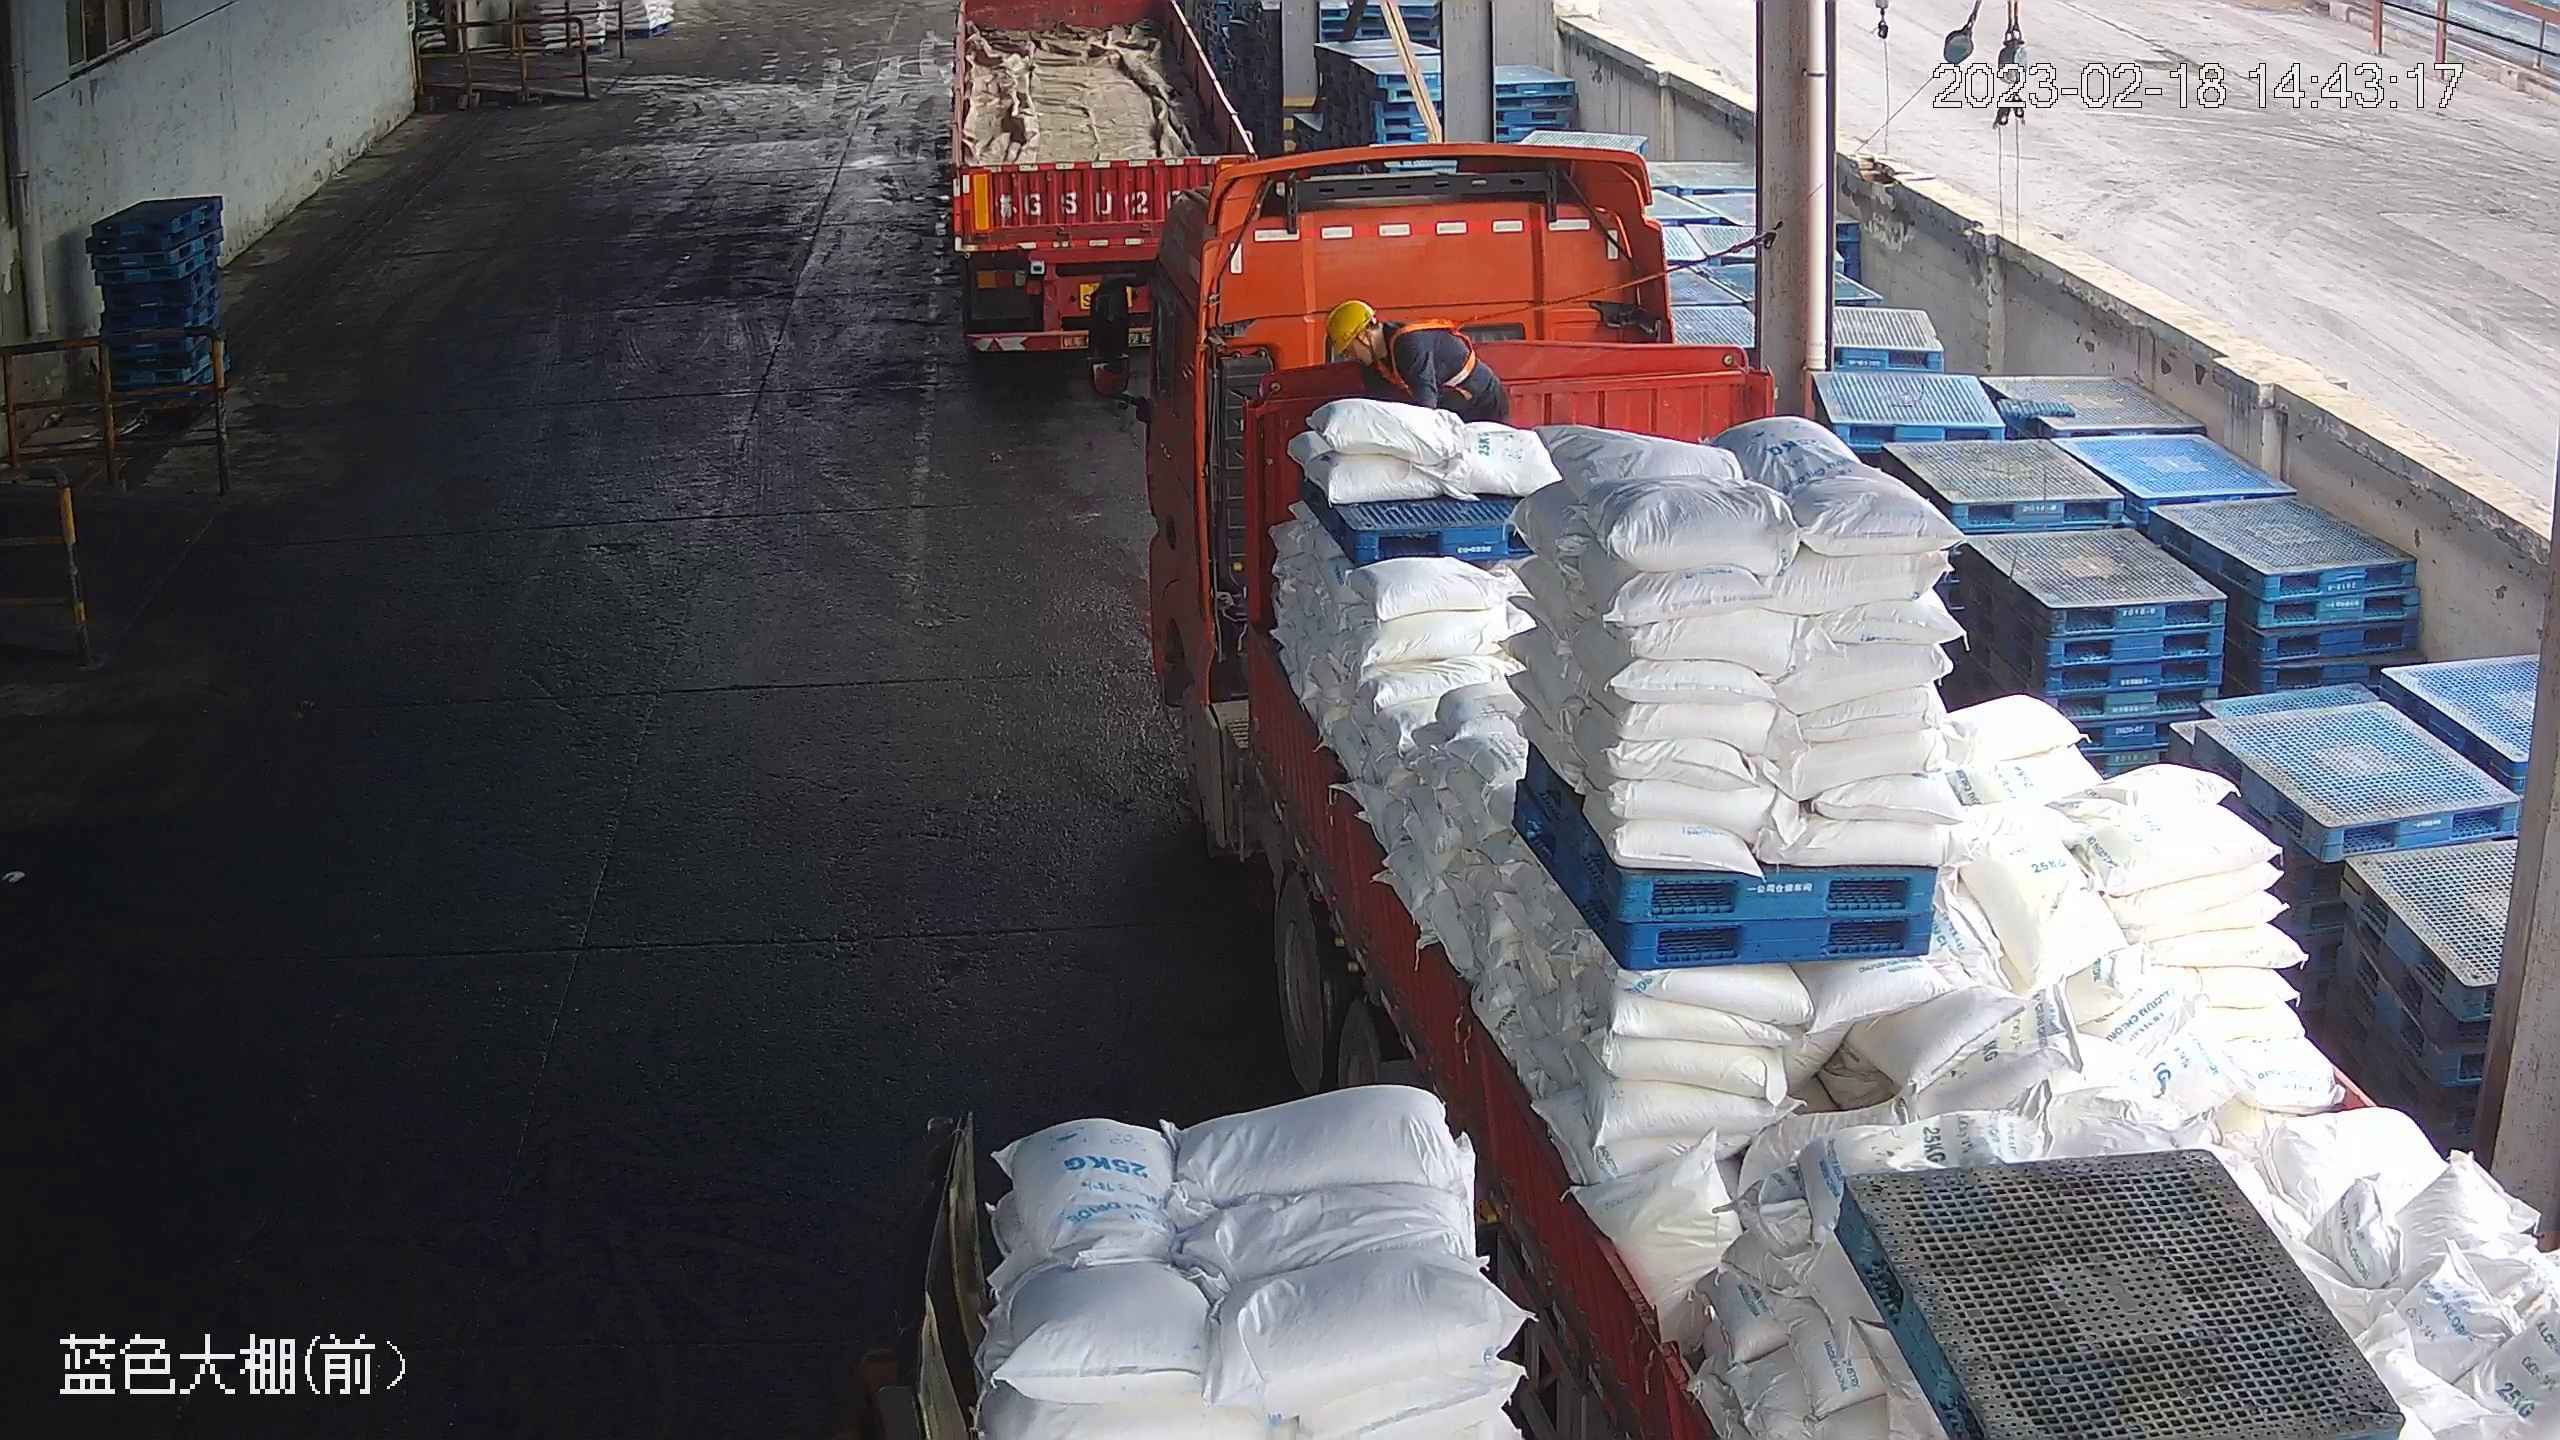belt: (1377, 317, 1478, 402)
head: (1327, 300, 1431, 374)
helmet: (1327, 299, 1378, 352)
people: (1327, 299, 1511, 423)
truck: (1084, 141, 2560, 1440), (946, 1, 1260, 352)
